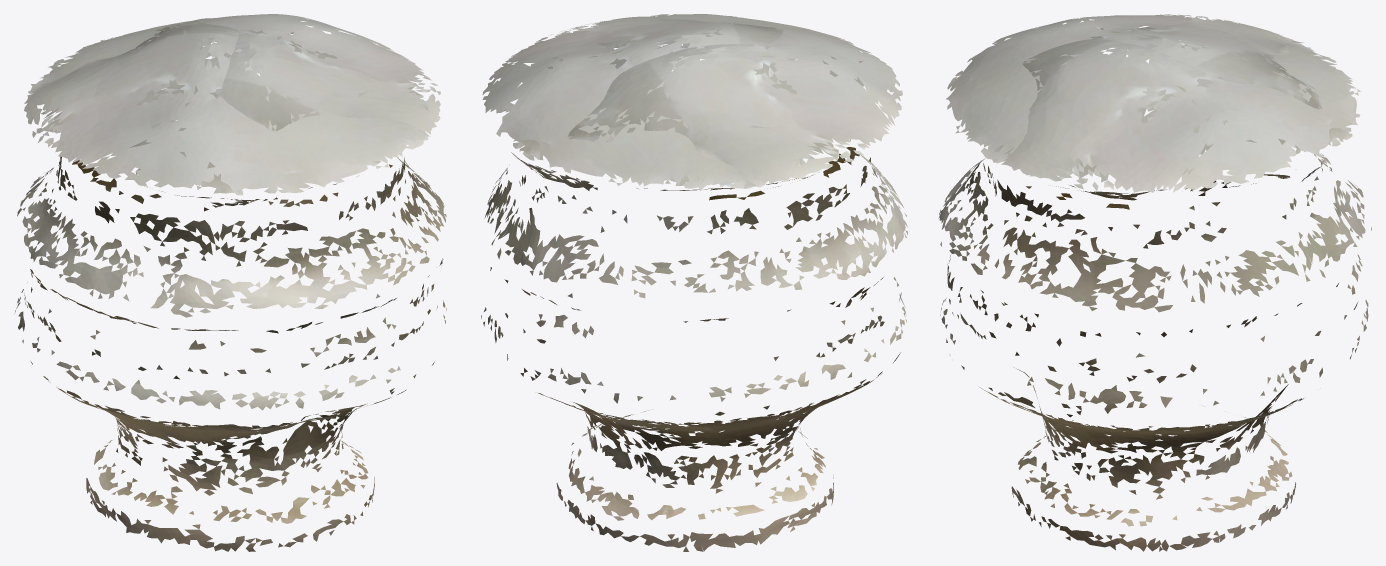
Rendered from Trump-bowling.glb.
3 views of the same model, side by side, from view 1: azimuth 30°, elevation 25°; view 2: azimuth 150°, elevation 25°; view 3: azimuth 270°, elevation 25° (orthographic).
Visible parts, largest first — view 1: Mesh_0.002; view 2: Mesh_0.002; view 3: Mesh_0.002.
Part boxes in pixels (bbox=[...]): Mesh_0.002: bbox=[14, 14, 446, 551]; Mesh_0.002: bbox=[481, 14, 907, 551]; Mesh_0.002: bbox=[938, 14, 1371, 551].
Bounding box in the file's own units: 0.2252 × 0.2547 × 0.2247.
1 material, 1 textured.
